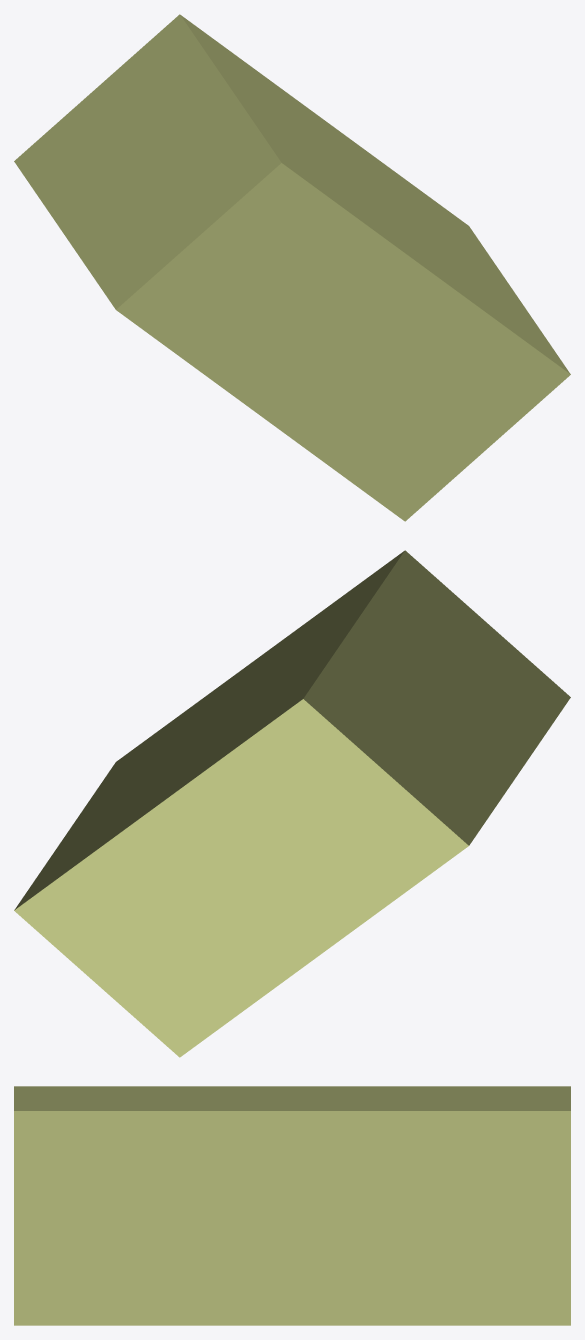
The picture shows the model from 3 angles, top to bottom: view 1: azimuth 30°, elevation 25°; view 2: azimuth 150°, elevation 25°; view 3: azimuth 270°, elevation 25°; orthographic projection. The views are drawn at different scales.
Parts seen in each view (by area): view 1: 0_2_2_0_0_3_2_1_0_0_2; view 2: 0_2_2_0_0_3_2_1_0_0_2; view 3: 0_2_2_0_0_3_2_1_0_0_2.
Part boxes in pixels (<box>): 0_2_2_0_0_3_2_1_0_0_2: <box>14,14,570,521</box>; 0_2_2_0_0_3_2_1_0_0_2: <box>14,550,570,1057</box>; 0_2_2_0_0_3_2_1_0_0_2: <box>14,1086,570,1325</box>.
Bounding box in the file's own units: 3.21 × 3.21 × 6.
